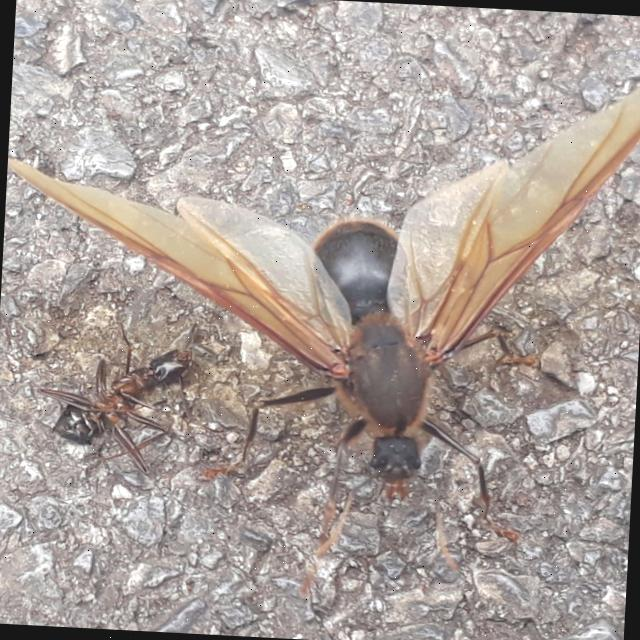Alive-Male-Alate: (0, 39, 640, 550)
